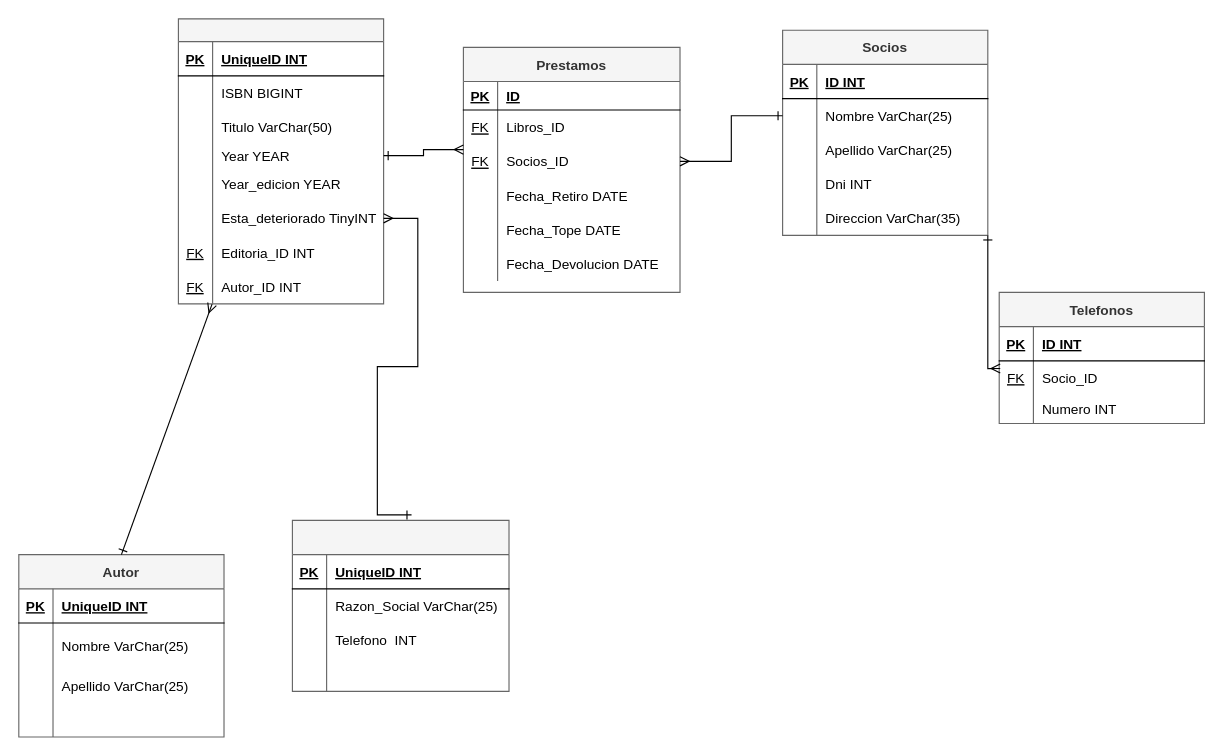
Some shapes in this 1223 by 756 pixel diagram are drawn without their labels. Here are the shapes that lost their labels. From the top down, the box of each, then its label:
(177, 18, 384, 304): Libros
(291, 519, 509, 691): Editorial
